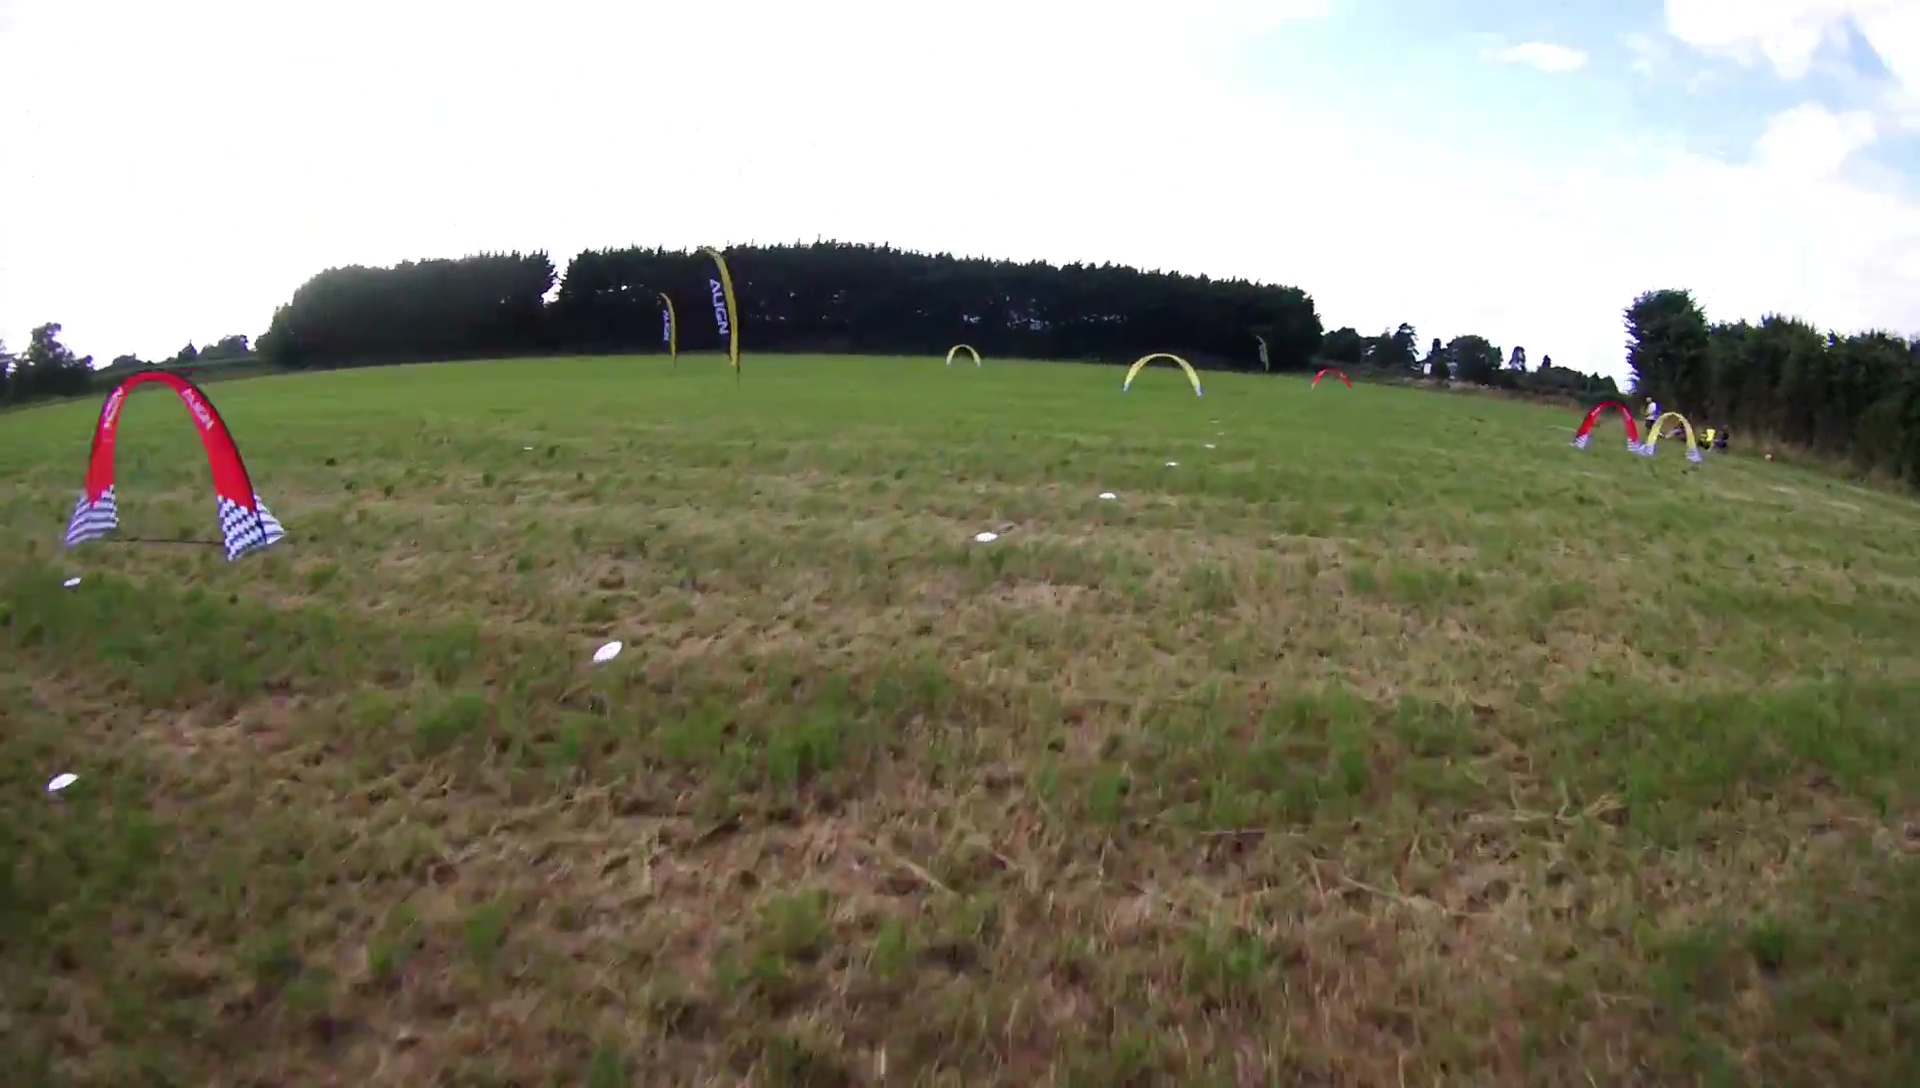gate: (61, 367, 286, 559), (1122, 353, 1205, 400), (1575, 402, 1642, 455), (1643, 409, 1704, 467), (1304, 367, 1357, 392), (942, 343, 985, 369)
